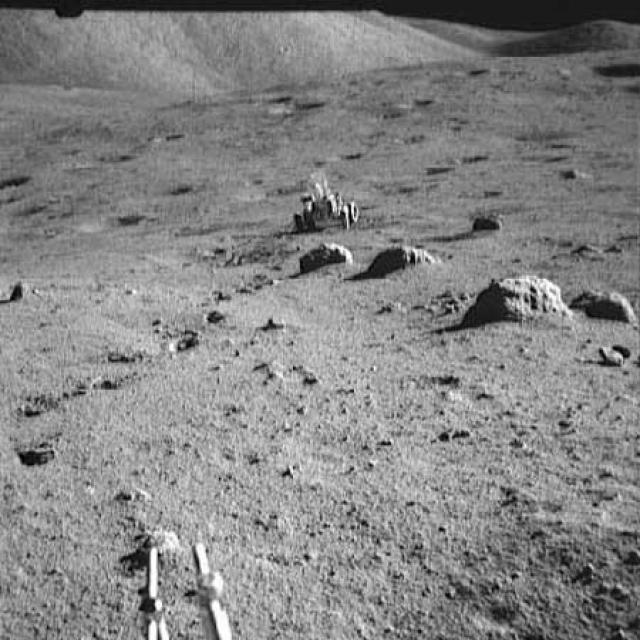artifact: (287, 170, 373, 236)
crater: (172, 232, 279, 267), (69, 210, 155, 234), (81, 144, 136, 170), (245, 175, 301, 200), (588, 58, 638, 86), (266, 97, 336, 117), (510, 124, 575, 143)
rock: (472, 268, 572, 322), (570, 277, 639, 330), (368, 243, 447, 276), (296, 242, 358, 274), (467, 206, 507, 231), (8, 273, 31, 303)
